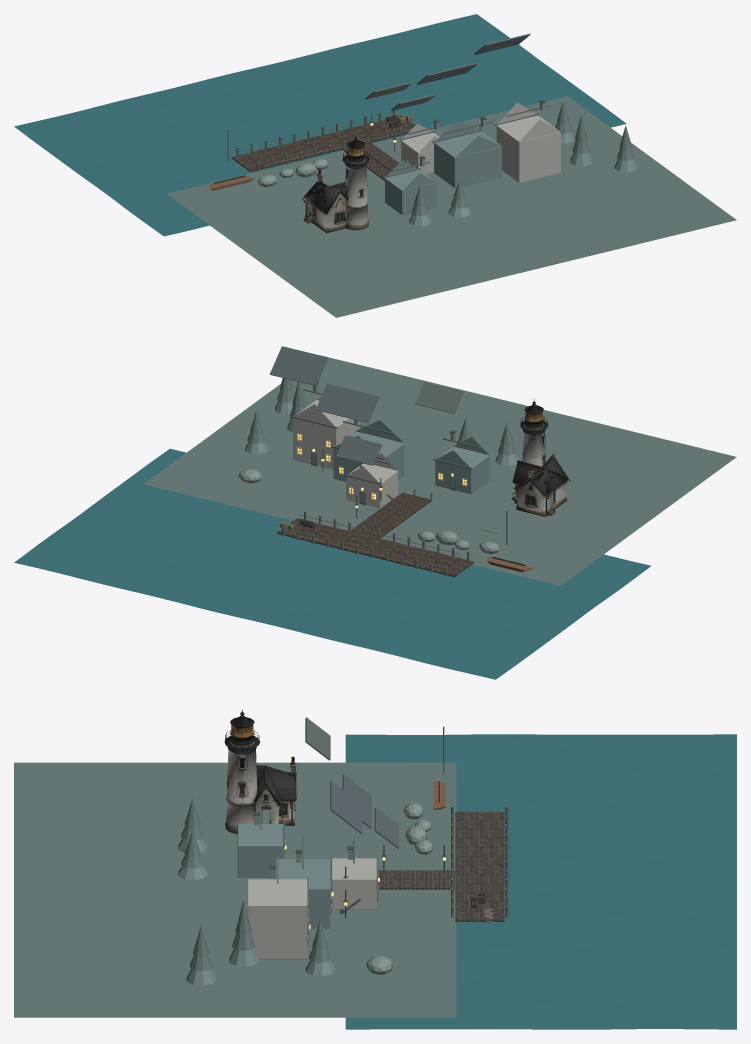
Rendered from bellweather-harbor-v2.glb.
The picture shows the model from 3 angles, top to bottom: view 1: azimuth 30°, elevation 25°; view 2: azimuth 150°, elevation 25°; view 3: azimuth 270°, elevation 25°; orthographic projection. The views are drawn at different scales.
Parts seen in each view (by area): view 1: Bellweather shore, Sculpted harbor water, Tripo Lighthouse and Keeper Cottage, Harbor rooms plaster body, Main wet timber pier, Turner chandlery plaster body, Net menders cottage plaster body, Tide office plaster body, Boardwalk to the keeper street; view 2: Sculpted harbor water, Bellweather shore, Tripo Lighthouse and Keeper Cottage, Main wet timber pier, Harbor rooms plaster body, Net menders cottage plaster body, Turner chandlery north slate roof, Boardwalk to the keeper street, Harbor rooms north slate roof, Tide office plaster body, Turner chandlery plaster body, Net menders cottage north slate roof (+1 smaller); view 3: Bellweather shore, Sculpted harbor water, Tripo Lighthouse and Keeper Cottage, Main wet timber pier, Harbor rooms plaster body, Net menders cottage plaster body, Tide office plaster body, Turner chandlery plaster body, Boardwalk to the keeper street, Harbor rooms north slate roof, Net menders cottage north slate roof, Turner chandlery north slate roof (+1 smaller).
Part boxes in pixels (left/top/right/bottom): Bellweather shore: left=167, top=96, right=736, bottom=317; Sculpted harbor water: left=14, top=14, right=626, bottom=236; Tripo Lighthouse and Keeper Cottage: left=302, top=135, right=369, bottom=233; Harbor rooms plaster body: left=496, top=115, right=560, bottom=182; Main wet timber pier: left=231, top=115, right=413, bottom=172; Turner chandlery plaster body: left=434, top=131, right=501, bottom=188; Net menders cottage plaster body: left=385, top=169, right=437, bottom=215; Tide office plaster body: left=401, top=132, right=439, bottom=174; Boardwalk to the keeper street: left=342, top=142, right=398, bottom=180; Sculpted harbor water: left=14, top=448, right=651, bottom=679; Bellweather shore: left=144, top=355, right=736, bottom=585; Tripo Lighthouse and Keeper Cottage: left=511, top=398, right=570, bottom=516; Main wet timber pier: left=277, top=518, right=474, bottom=576; Harbor rooms plaster body: left=293, top=400, right=359, bottom=469; Net menders cottage plaster body: left=435, top=446, right=489, bottom=494; Turner chandlery north slate roof: left=315, top=383, right=378, bottom=422; Boardwalk to the keeper street: left=350, top=492, right=431, bottom=538; Harbor rooms north slate roof: left=270, top=346, right=328, bottom=385; Tide office plaster body: left=346, top=463, right=397, bottom=507; Turner chandlery plaster body: left=333, top=431, right=404, bottom=481; Net menders cottage north slate roof: left=415, top=382, right=463, bottom=413; Bellweather shore: left=14, top=762, right=456, bottom=1017; Sculpted harbor water: left=345, top=734, right=736, bottom=1029; Tripo Lighthouse and Keeper Cottage: left=224, top=710, right=296, bottom=833; Main wet timber pier: left=455, top=811, right=504, bottom=921; Harbor rooms plaster body: left=248, top=879, right=307, bottom=959; Net menders cottage plaster body: left=237, top=824, right=283, bottom=877; Tide office plaster body: left=331, top=858, right=376, bottom=909; Turner chandlery plaster body: left=276, top=859, right=330, bottom=928; Boardwalk to the keeper street: left=376, top=870, right=454, bottom=889; Harbor rooms north slate roof: left=330, top=781, right=362, bottom=833; Net menders cottage north slate roof: left=305, top=717, right=330, bottom=760; Turner chandlery north slate roof: left=342, top=774, right=371, bottom=828.
Size of the model in its own units: 82 by 27.64 by 85.
14 materials, 2 textured.
